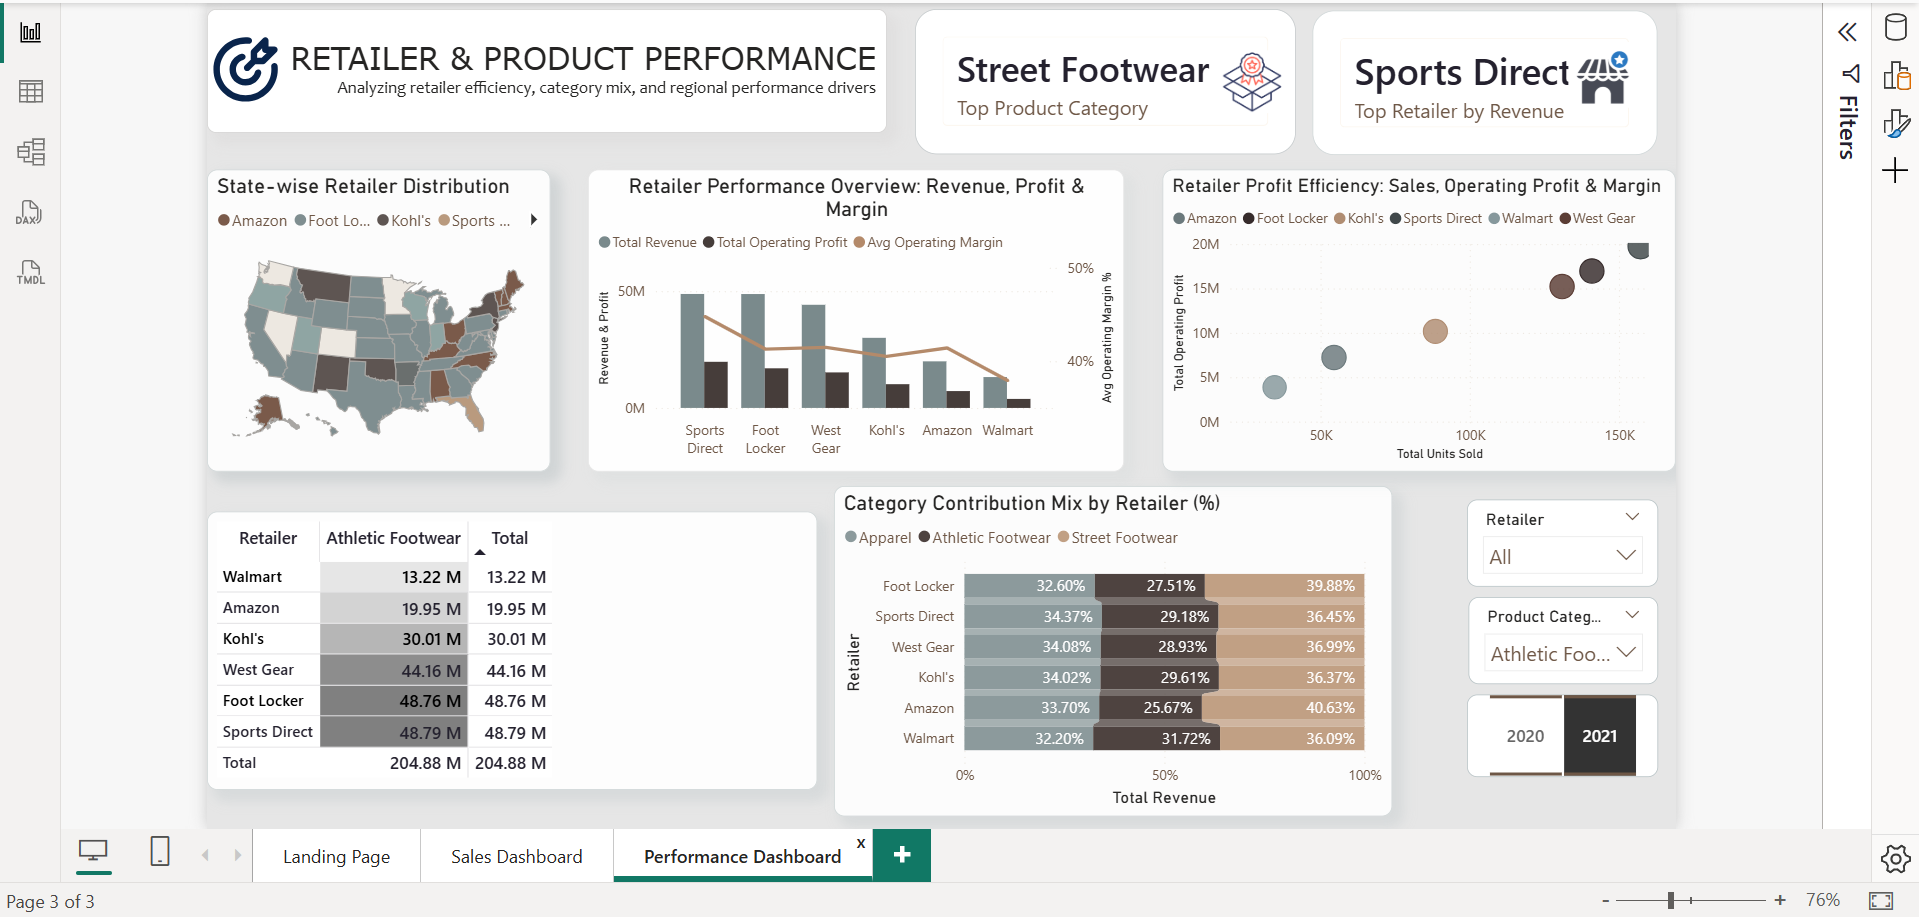

What the dashboard file says about the page in this screenshot:
{"tool":"powerbi","page":{"name":"Performance Dashboard","canvas":[1280,720],"ordinal":2},"visuals":[{"type":"shapeMap","title":"State-wise Retailer Distribution","fields":{"Category":["Sales Details.State"],"Series":["Sales Details.Retailer"],"Value":["Sales Details.Total Revenue"]},"box":[0,144.7,299.6,263.1],"z":0},{"type":"slicer","fields":{"Values":["Sales Details.Retailer"]},"box":[1098.7,432.9,166.8,76.2],"z":1000},{"type":"textbox","box":[0,5.8,592.5,107.9],"z":2000},{"type":"lineClusteredColumnComboChart","title":"Retailer Performance Overview: Revenue, Profit & Margin","fields":{"Category":["Sales Details.Retailer"],"Y":["Sales Details.Total Revenue","Sales Details.Total Operating Profit"],"Y2":["Sales Details.Avg Operating Margin"]},"box":[332.5,145.2,467.4,263.2],"z":3000},{"type":"pivotTable","fields":{"Columns":["Sales Details.Product Category"],"Rows":["Sales Details.Retailer"],"Values":["Sales Details.TRM"]},"box":[0,443.4,532,242.6],"z":4000},{"type":"hundredPercentStackedBarChart","title":"Category Contribution Mix by Retailer (%)","fields":{"Category":["Sales Details.Retailer"],"Series":["Sales Details.Product Category"],"Y":["Sales Details.Total Revenue"]},"box":[546.6,420.8,486.7,287.9],"z":5000},{"type":"scatterChart","title":"Retailer Profit Efficiency: Sales, Operating Profit & Margin","fields":{"Series":["Sales Details.Retailer"],"Size":["Sales Details.Avg Operating Margin"],"X":["Sales Details.Total Units Sold"],"Y":["Sales Details.Total Operating Profit"]},"box":[832.8,144.7,447.2,263.1],"z":6000},{"type":"slicer","fields":{"Values":["Sales Details.Product Category"]},"box":[1099.9,517.5,165.4,76.2],"z":7000},{"type":"slicer","fields":{"Values":["Sales Details.Invoice Date.Variation.Date Hierarchy.Year"]},"box":[1098.7,602.6,166.8,71.9],"z":8000},{"type":"cardVisual","fields":{"Data":["Sales Details.Top Product Category"]},"box":[617,5.8,332.2,126.6],"z":9000},{"type":"cardVisual","fields":{"Data":["Sales Details.Top Retailer by Revenue"]},"box":[964,6.3,300.8,126],"z":10000},{"type":"image","box":[0,23,67.6,69],"z":11000},{"type":"image","box":[884.4,34.5,54.6,69],"z":11001},{"type":"image","box":[1182.1,34.5,69,57.5],"z":11002}]}

Visuals, with their boxes on the page's 1280x720 design canvas (x1, y1, x2, y2). These are canvas units, not pixel positions in the 1919x917 screenshot, which may show the page scaled, cropped or inside an application window:
"State-wise Retailer Distribution" shapeMap: region(0, 145, 300, 408)
slicer - Sales Details.Retailer: region(1099, 433, 1266, 509)
textbox: region(0, 6, 592, 114)
"Retailer Performance Overview: Revenue, Profit & Margin" lineClusteredColumnComboChart: region(332, 145, 800, 408)
pivotTable - Sales Details.Product Category x Sales Details.Retailer: region(0, 443, 532, 686)
"Category Contribution Mix by Retailer (%)" hundredPercentStackedBarChart: region(547, 421, 1033, 709)
"Retailer Profit Efficiency: Sales, Operating Profit & Margin" scatterChart: region(833, 145, 1280, 408)
slicer - Sales Details.Product Category: region(1100, 518, 1265, 594)
slicer - Sales Details.Invoice Date.Variation.Date Hierarchy.Year: region(1099, 603, 1266, 674)
cardVisual - Sales Details.Top Product Category: region(617, 6, 949, 132)
cardVisual - Sales Details.Top Retailer by Revenue: region(964, 6, 1265, 132)
image: region(0, 23, 68, 92)
image: region(884, 34, 939, 104)
image: region(1182, 34, 1251, 92)
